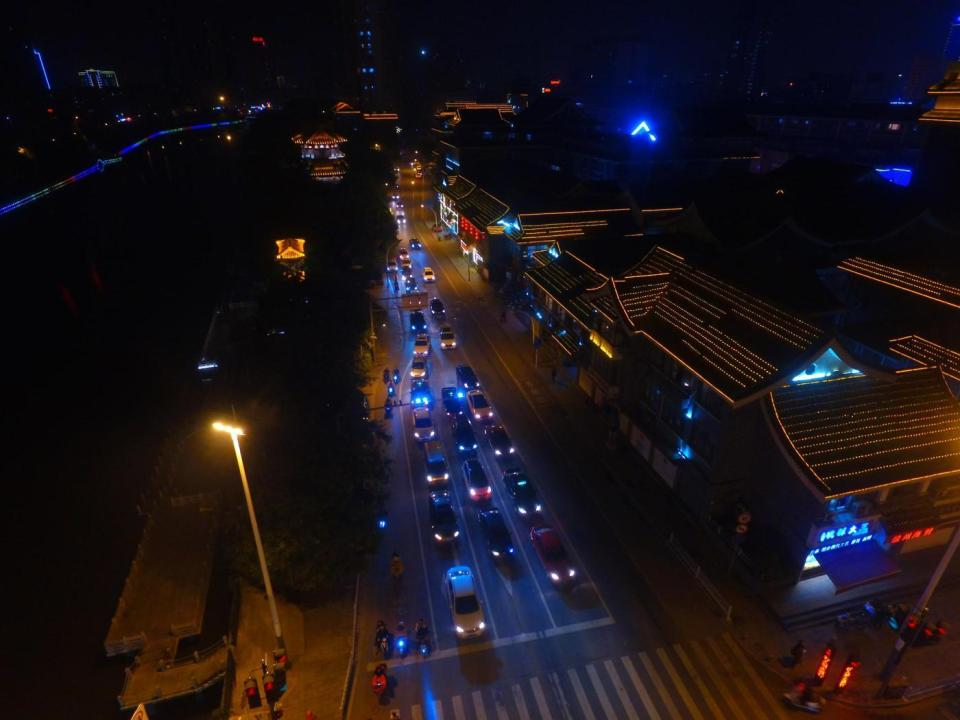car: (444, 565, 487, 638), (530, 524, 578, 586), (502, 466, 542, 518), (477, 506, 514, 560), (428, 490, 461, 543), (461, 458, 491, 502), (483, 422, 517, 459), (450, 413, 476, 456), (465, 388, 493, 423), (411, 406, 435, 443), (454, 364, 480, 394), (440, 386, 462, 417), (410, 378, 434, 406), (437, 323, 458, 350), (408, 309, 428, 333), (412, 334, 432, 357), (409, 355, 428, 379), (429, 296, 445, 316), (404, 276, 419, 294), (384, 256, 399, 273), (422, 266, 436, 282), (401, 256, 413, 271), (409, 237, 422, 250), (398, 248, 409, 262), (431, 223, 443, 231), (396, 215, 406, 224), (396, 200, 404, 209), (392, 193, 400, 200), (393, 165, 400, 172), (416, 163, 423, 170), (414, 172, 421, 178), (410, 160, 420, 164)
van: (421, 439, 448, 487)
